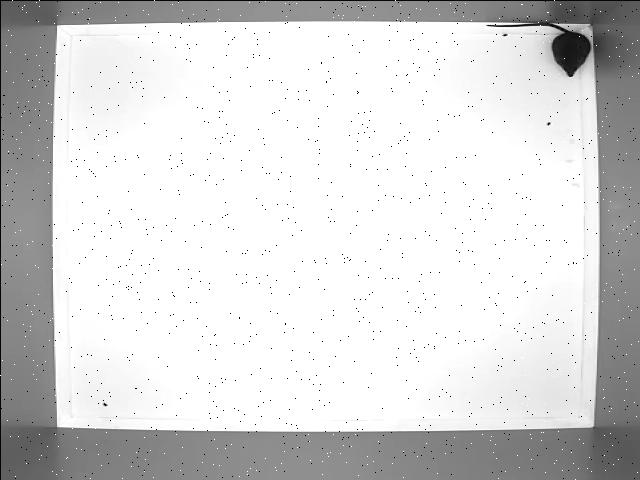Tikus: (486, 21, 590, 77)
